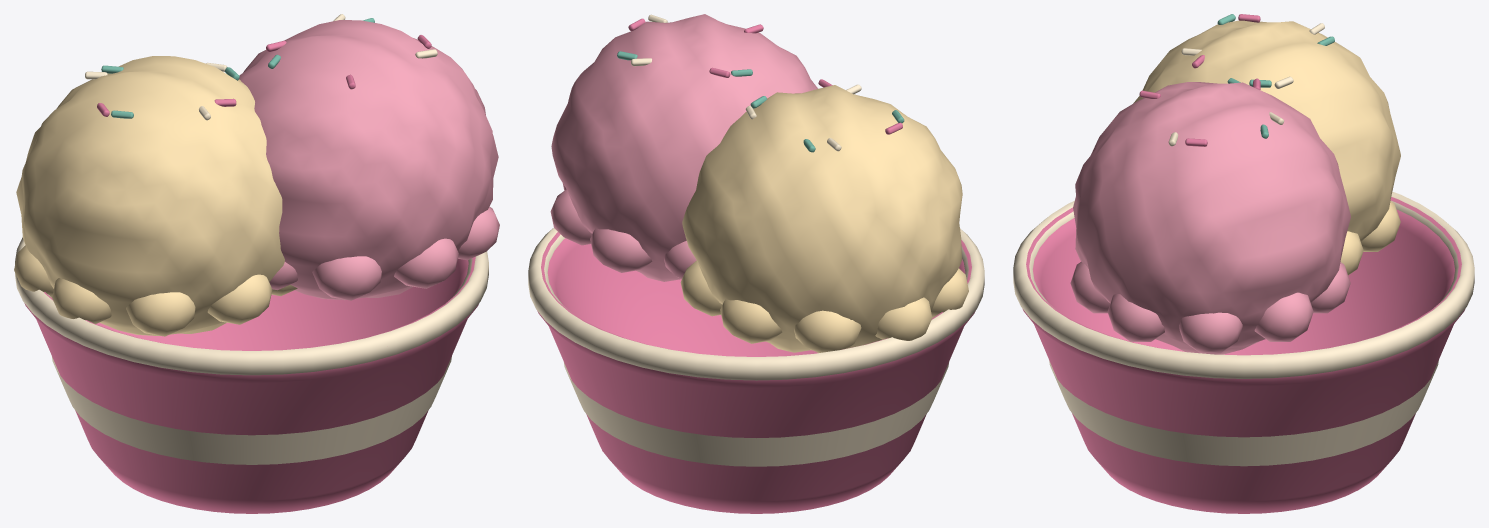
Rendered from Two_scoop_bowl.fbx.
The picture shows the model from 3 angles, left to right: view 1: azimuth 30°, elevation 25°; view 2: azimuth 150°, elevation 25°; view 3: azimuth 270°, elevation 25°; orthographic projection. The views are drawn at different scales.
Parts seen in each view (by area): view 1: Toon_Two_scoop_bowl Vanilla scoop.001, Toon_Two_scoop_bowl Strawberry scoop.001, Toon_Two_scoop_bowl Paper bowl.001, Toon_Two_scoop_bowl Rolled rim.001, Toon_Two_scoop_bowl Cream band.001, Toon_Two_scoop_bowl Scoop ruffle.033, Toon_Two_scoop_bowl Scoop ruffle.024, Toon_Two_scoop_bowl Scoop ruffle.025, Toon_Two_scoop_bowl Scoop ruffle.034, Toon_Two_scoop_bowl Scoop ruffle.023, Toon_Two_scoop_bowl Scoop ruffle.035, Toon_Two_scoop_bowl Scoop ruffle.022; view 2: Toon_Two_scoop_bowl Vanilla scoop.001, Toon_Two_scoop_bowl Paper bowl.001, Toon_Two_scoop_bowl Strawberry scoop.001, Toon_Two_scoop_bowl Rolled rim.001, Toon_Two_scoop_bowl Cream band.001, Toon_Two_scoop_bowl Scoop ruffle.021, Toon_Two_scoop_bowl Scoop ruffle.029, Toon_Two_scoop_bowl Scoop ruffle.020, Toon_Two_scoop_bowl Scoop ruffle.022, Toon_Two_scoop_bowl Scoop ruffle.028, Toon_Two_scoop_bowl Scoop ruffle.019, Toon_Two_scoop_bowl Scoop ruffle.023 (+1 smaller); view 3: Toon_Two_scoop_bowl Strawberry scoop.001, Toon_Two_scoop_bowl Paper bowl.001, Toon_Two_scoop_bowl Vanilla scoop.001, Toon_Two_scoop_bowl Rolled rim.001, Toon_Two_scoop_bowl Cream band.001, Toon_Two_scoop_bowl Scoop ruffle.027, Toon_Two_scoop_bowl Scoop ruffle.028, Toon_Two_scoop_bowl Scoop ruffle.035, Toon_Two_scoop_bowl Scoop ruffle.034, Toon_Two_scoop_bowl Scoop ruffle.029, Toon_Two_scoop_bowl Scoop ruffle.020, Toon_Two_scoop_bowl Scoop ruffle.019.
Part boxes in pixels (left/top/right/bottom): Toon_Two_scoop_bowl Vanilla scoop.001: left=16, top=56, right=284, bottom=335; Toon_Two_scoop_bowl Strawberry scoop.001: left=239, top=20, right=498, bottom=300; Toon_Two_scoop_bowl Paper bowl.001: left=24, top=257, right=478, bottom=513; Toon_Two_scoop_bowl Rolled rim.001: left=15, top=237, right=488, bottom=375; Toon_Two_scoop_bowl Cream band.001: left=52, top=356, right=451, bottom=464; Toon_Two_scoop_bowl Scoop ruffle.033: left=312, top=256, right=381, bottom=300; Toon_Two_scoop_bowl Scoop ruffle.024: left=126, top=292, right=195, bottom=336; Toon_Two_scoop_bowl Scoop ruffle.025: left=207, top=274, right=272, bottom=324; Toon_Two_scoop_bowl Scoop ruffle.034: left=394, top=238, right=458, bottom=288; Toon_Two_scoop_bowl Scoop ruffle.023: left=52, top=278, right=111, bottom=323; Toon_Two_scoop_bowl Scoop ruffle.035: left=458, top=206, right=499, bottom=260; Toon_Two_scoop_bowl Scoop ruffle.022: left=14, top=245, right=53, bottom=297; Toon_Two_scoop_bowl Vanilla scoop.001: left=682, top=85, right=962, bottom=352; Toon_Two_scoop_bowl Paper bowl.001: left=537, top=232, right=975, bottom=513; Toon_Two_scoop_bowl Strawberry scoop.001: left=551, top=14, right=817, bottom=281; Toon_Two_scoop_bowl Rolled rim.001: left=528, top=228, right=984, bottom=380; Toon_Two_scoop_bowl Cream band.001: left=564, top=362, right=948, bottom=466; Toon_Two_scoop_bowl Scoop ruffle.021: left=794, top=310, right=861, bottom=352; Toon_Two_scoop_bowl Scoop ruffle.029: left=590, top=228, right=652, bottom=272; Toon_Two_scoop_bowl Scoop ruffle.020: left=720, top=299, right=782, bottom=343; Toon_Two_scoop_bowl Scoop ruffle.022: left=875, top=297, right=932, bottom=340; Toon_Two_scoop_bowl Scoop ruffle.028: left=550, top=189, right=591, bottom=245; Toon_Two_scoop_bowl Scoop ruffle.019: left=680, top=260, right=721, bottom=316; Toon_Two_scoop_bowl Scoop ruffle.023: left=931, top=268, right=968, bottom=317; Toon_Two_scoop_bowl Strawberry scoop.001: left=1073, top=82, right=1350, bottom=354; Toon_Two_scoop_bowl Paper bowl.001: left=1022, top=197, right=1465, bottom=513; Toon_Two_scoop_bowl Vanilla scoop.001: left=1133, top=20, right=1400, bottom=241; Toon_Two_scoop_bowl Rolled rim.001: left=1013, top=191, right=1474, bottom=378; Toon_Two_scoop_bowl Cream band.001: left=1049, top=360, right=1438, bottom=466; Toon_Two_scoop_bowl Scoop ruffle.027: left=1179, top=312, right=1242, bottom=353; Toon_Two_scoop_bowl Scoop ruffle.028: left=1254, top=292, right=1313, bottom=341; Toon_Two_scoop_bowl Scoop ruffle.035: left=1107, top=294, right=1164, bottom=341; Toon_Two_scoop_bowl Scoop ruffle.034: left=1070, top=261, right=1110, bottom=313; Toon_Two_scoop_bowl Scoop ruffle.029: left=1311, top=262, right=1350, bottom=313; Toon_Two_scoop_bowl Scoop ruffle.020: left=1361, top=201, right=1400, bottom=251; Toon_Two_scoop_bowl Scoop ruffle.019: left=1340, top=231, right=1363, bottom=275.
Size of the model in its own units: 17.04 by 15.8 by 16.6.
